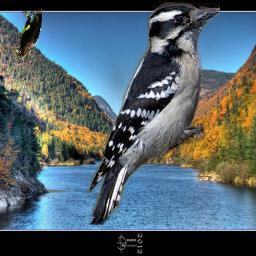Crow: (14, 10, 42, 61)
Woodpecker: (88, 0, 221, 227)
